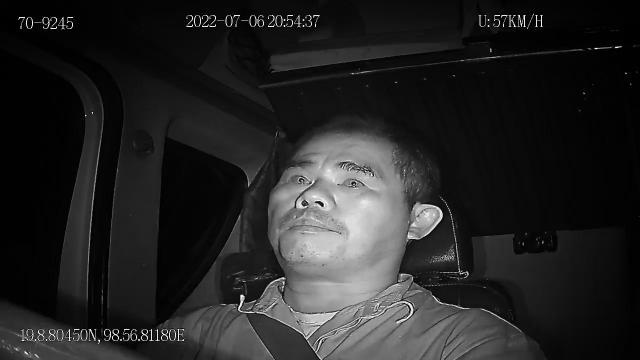SafeDriving: (331, 168, 371, 194), (281, 166, 314, 191)
Seatbelt: (224, 274, 324, 360)
